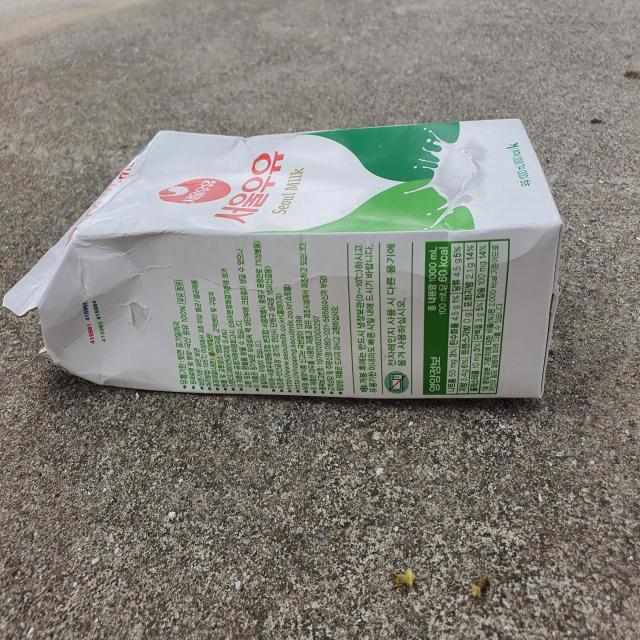paperpack: (3, 118, 563, 398)
